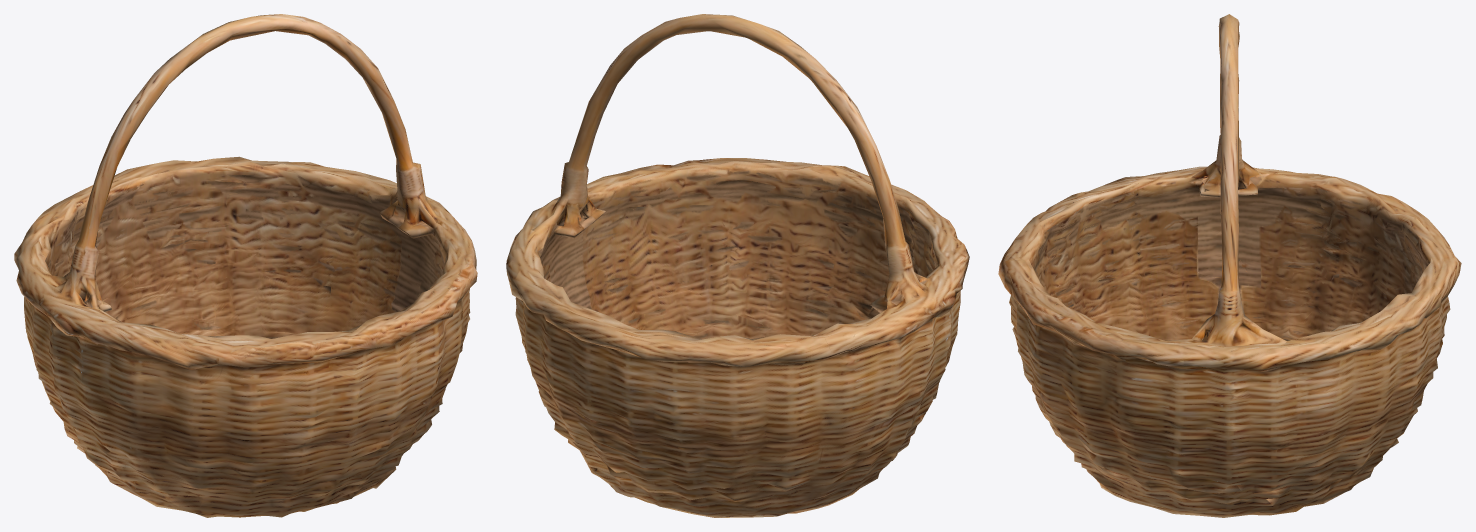
Rendered from o51_sapli_sepet.glb.
3 views of the same model, side by side, from view 1: azimuth 30°, elevation 25°; view 2: azimuth 150°, elevation 25°; view 3: azimuth 270°, elevation 25° (orthographic). The views are drawn at different scales.
Size of the model in its own units: 1.89 by 2 by 1.93.
Materials: 1 (1 with a texture image).
